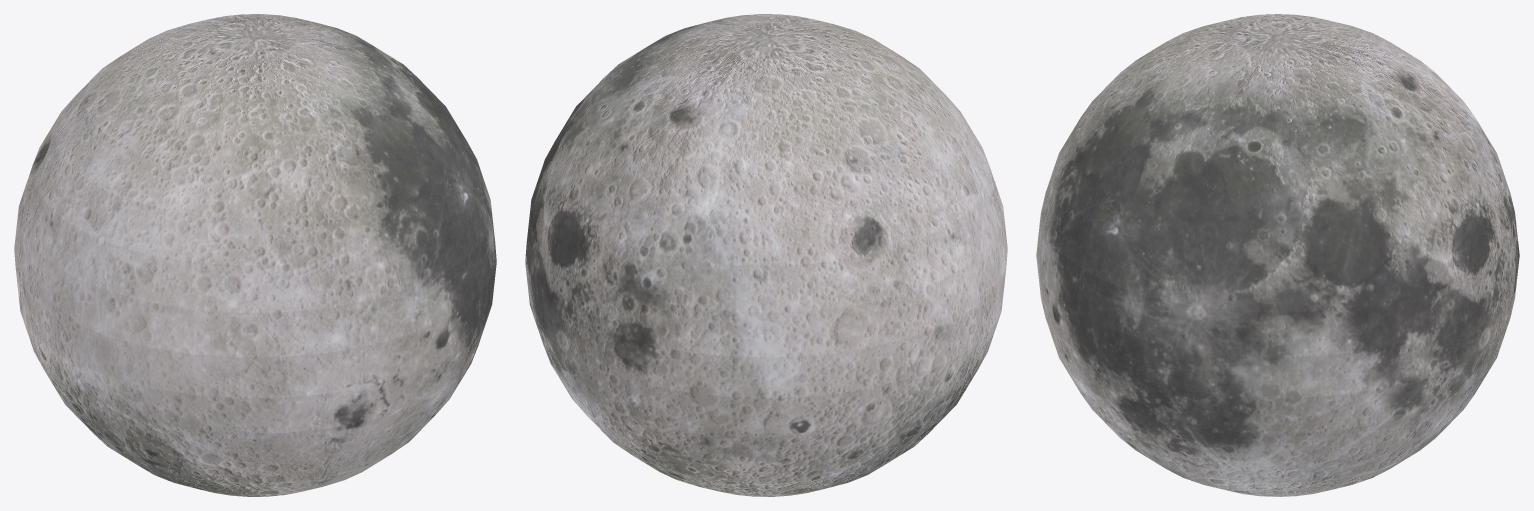
Rendered from luna.glb.
3 renders of one model, left to right at view 1: azimuth 30°, elevation 25°; view 2: azimuth 150°, elevation 25°; view 3: azimuth 270°, elevation 25°, orthographic.
Parts seen in each view (by area): view 1: Esfera; view 2: Esfera; view 3: Esfera.
Boxes of the visible parts, <box> form: Esfera: <box>14,14,496,496</box>; Esfera: <box>525,14,1007,496</box>; Esfera: <box>1036,14,1519,496</box>.
Size of the model in its own units: 2 by 2 by 2.
1 material, 1 textured.
